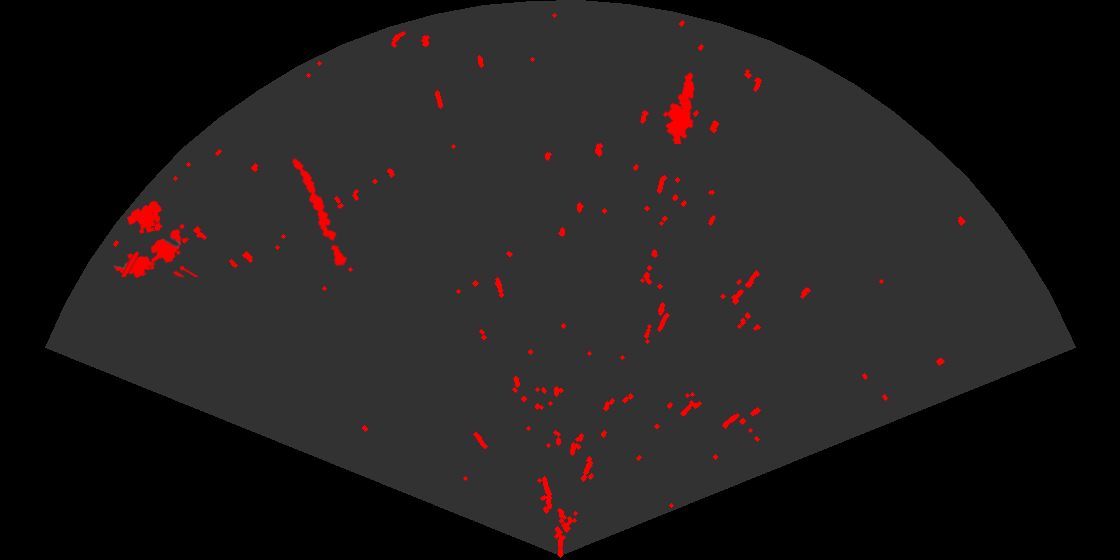AUV: (112, 252, 157, 279)
cage: (120, 199, 200, 277)
chain: (290, 156, 349, 268)
frogman: (661, 71, 696, 144)
